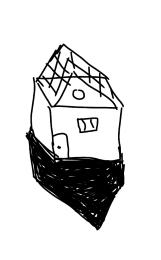door: (53, 131, 74, 160)
open_window: (75, 112, 104, 136)
roof: (28, 40, 134, 112)
shadow: (33, 156, 131, 232)
wall: (48, 101, 127, 161)
